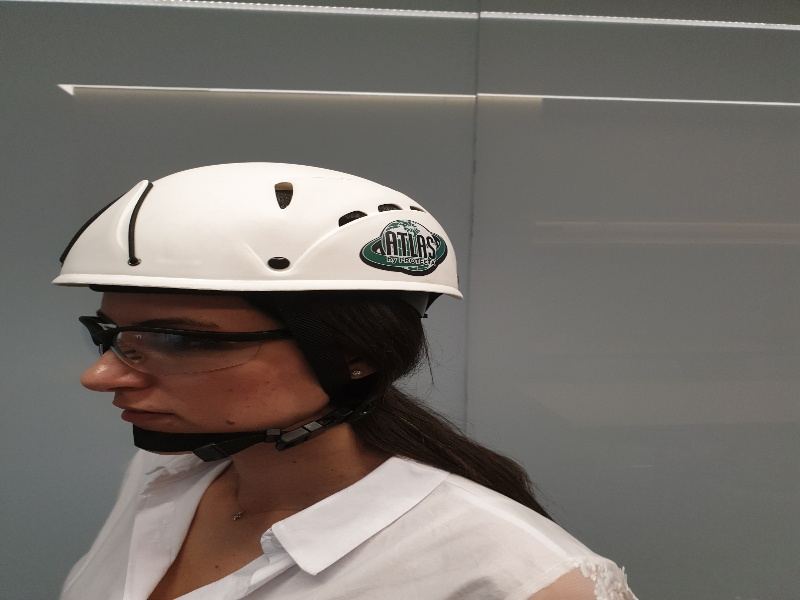Baret: (50, 160, 465, 298)
Gozluk: (77, 313, 347, 369)
